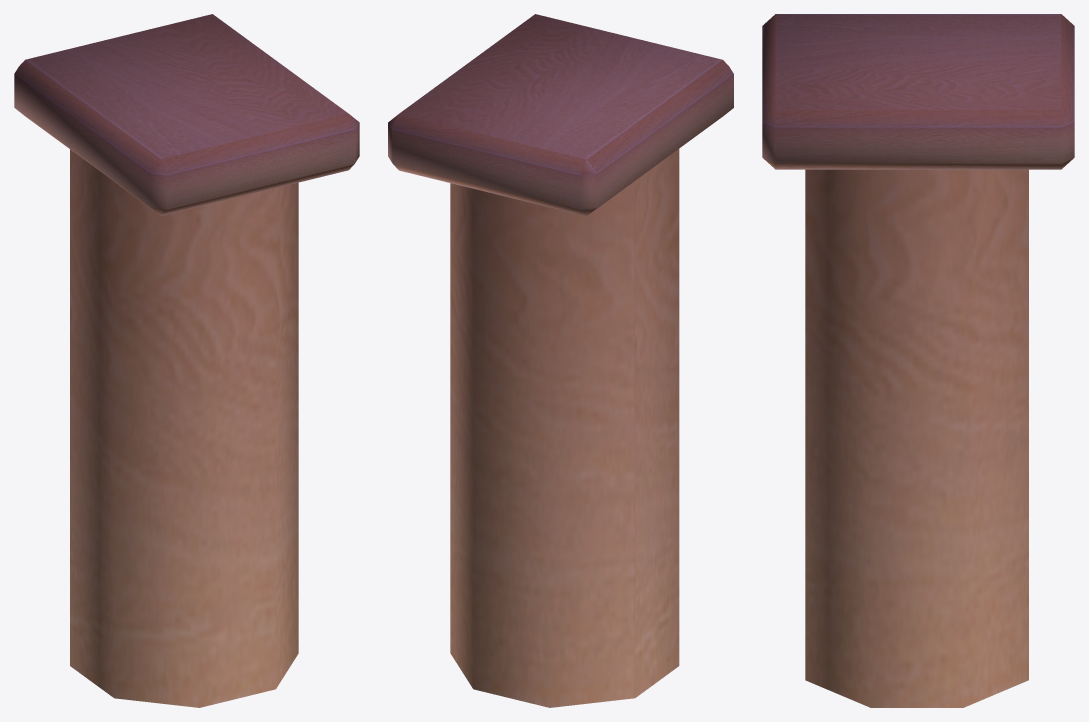
3 renders of one model, left to right at view 1: azimuth 30°, elevation 25°; view 2: azimuth 150°, elevation 25°; view 3: azimuth 270°, elevation 25°, orthographic. The views are drawn at different scales.
Visible parts, largest first — view 1: Joint_0_Object_0; view 2: Joint_0_Object_0; view 3: Joint_0_Object_0.
Boxes of the visible parts, x1,y1,x2,y2 form: Joint_0_Object_0: [14, 14, 359, 707]; Joint_0_Object_0: [388, 14, 733, 707]; Joint_0_Object_0: [762, 14, 1074, 707].
Bounding box in the file's own units: 170 × 444 × 209.
1 material, 1 textured.
